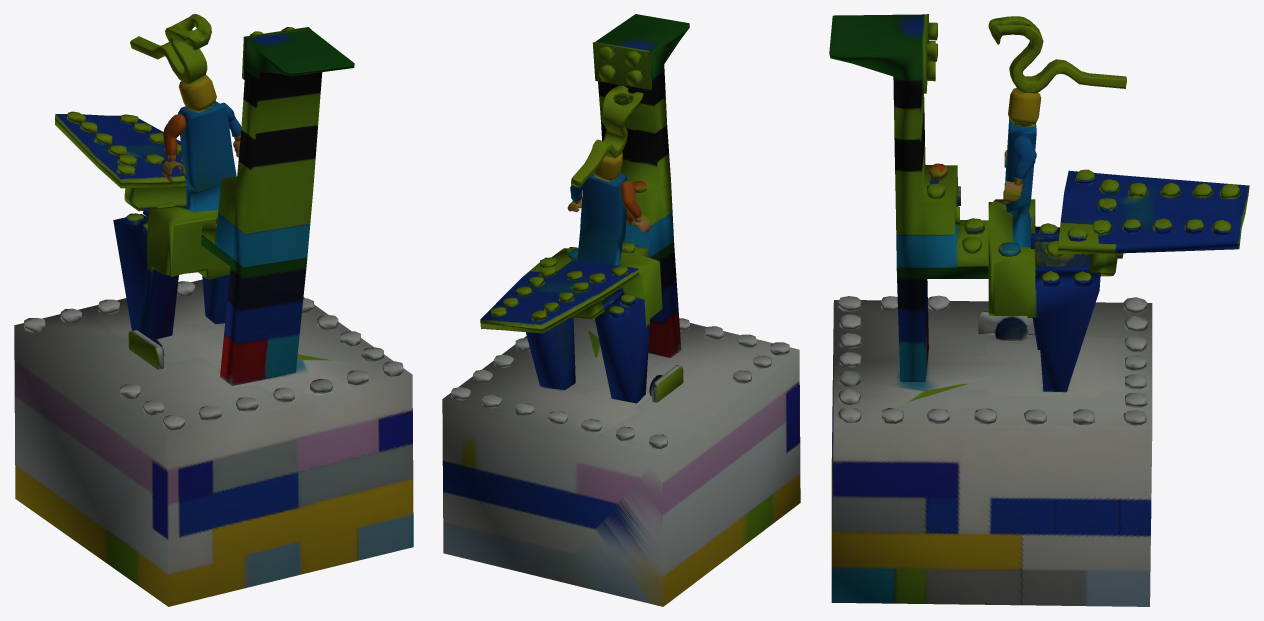
Rendered from object_53_asset_4c04fd24.glb.
The picture shows the model from 3 angles, left to right: view 1: azimuth 30°, elevation 25°; view 2: azimuth 150°, elevation 25°; view 3: azimuth 270°, elevation 25°; orthographic projection. The views are drawn at different scales.
Visible parts, largest first — view 1: tripo_node_23afad6e-6a2c-47d1-a179-f1eb4f2402fa; view 2: tripo_node_23afad6e-6a2c-47d1-a179-f1eb4f2402fa; view 3: tripo_node_23afad6e-6a2c-47d1-a179-f1eb4f2402fa.
Part boxes in pixels (x1=…): tripo_node_23afad6e-6a2c-47d1-a179-f1eb4f2402fa: x1=14, y1=14, x2=413, y2=606; tripo_node_23afad6e-6a2c-47d1-a179-f1eb4f2402fa: x1=442, y1=14, x2=800, y2=606; tripo_node_23afad6e-6a2c-47d1-a179-f1eb4f2402fa: x1=829, y1=14, x2=1249, y2=606.
Size of the model in its own units: 0.502 by 0.998 by 0.7168.
1 material, 1 textured.
